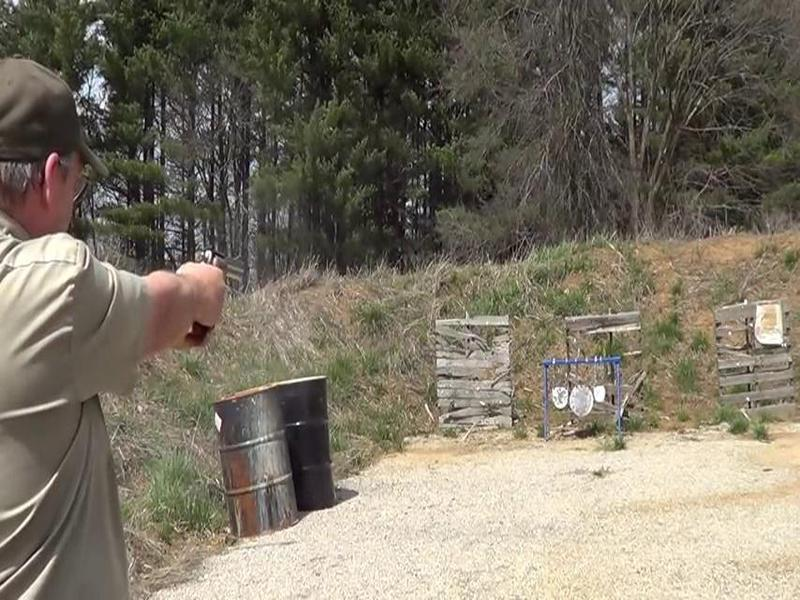Revolver: (170, 238, 253, 305)
